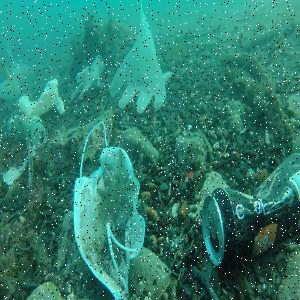Can: (202, 153, 300, 272), (7, 114, 50, 150)
Trash: (73, 121, 148, 300), (110, 1, 168, 115), (18, 78, 67, 118), (70, 55, 106, 101)
